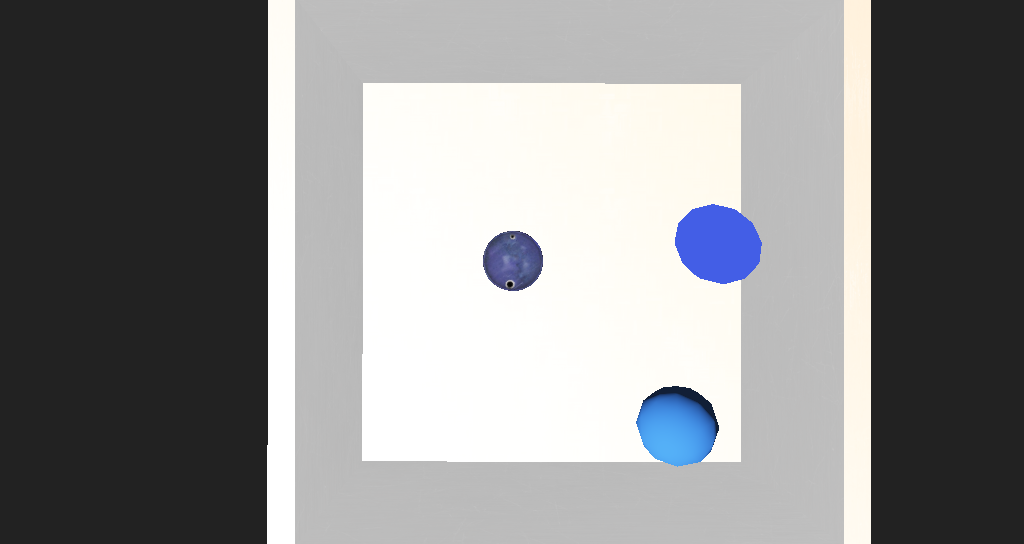cone: (445, 246, 499, 279)
cylinder: (589, 231, 664, 293)
sphere: (576, 329, 637, 377)
